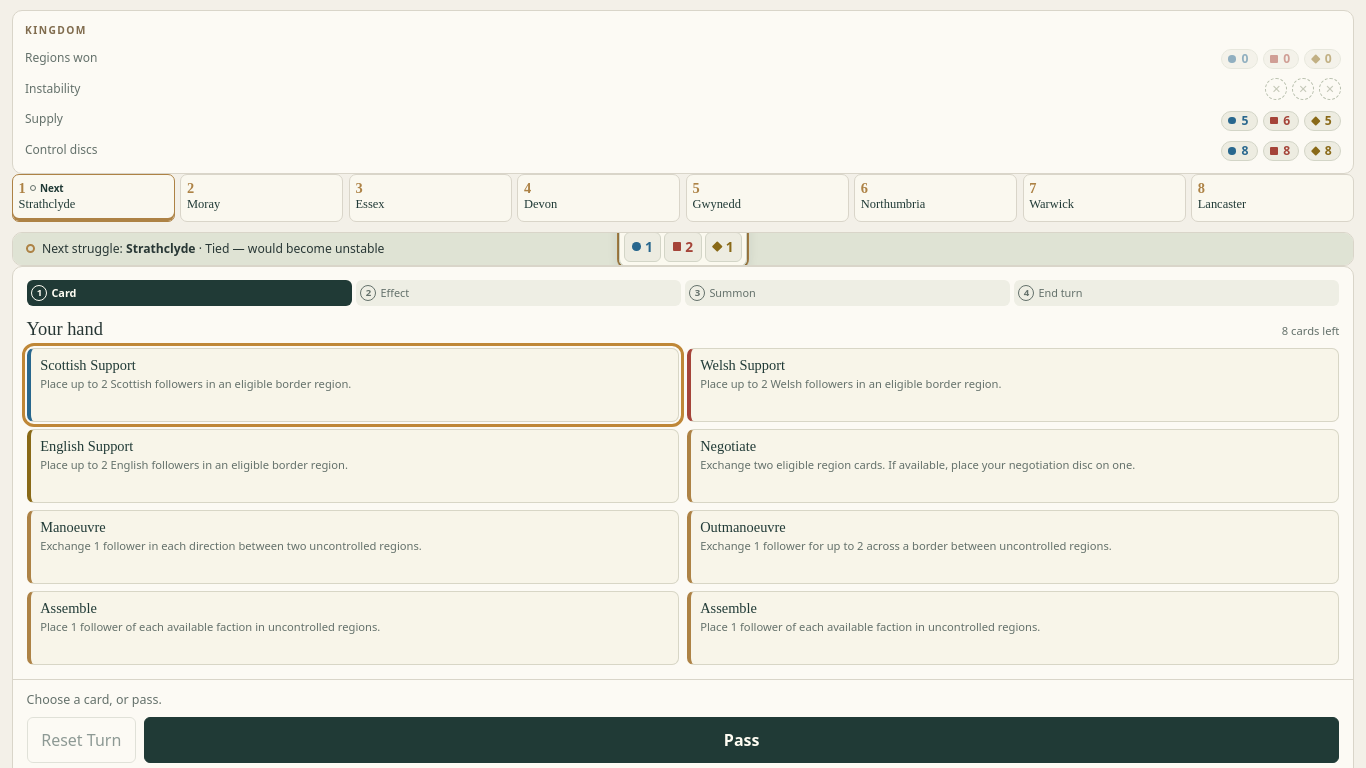
Test: keyboard focus and accessible names › keeps focus on the board after a board pick disables the used control
(page scrolled)
Step 1. Click the button named "Play Scottish Support" → (353, 385), box left=27, top=348, right=679, bottom=422
(page scrolled)
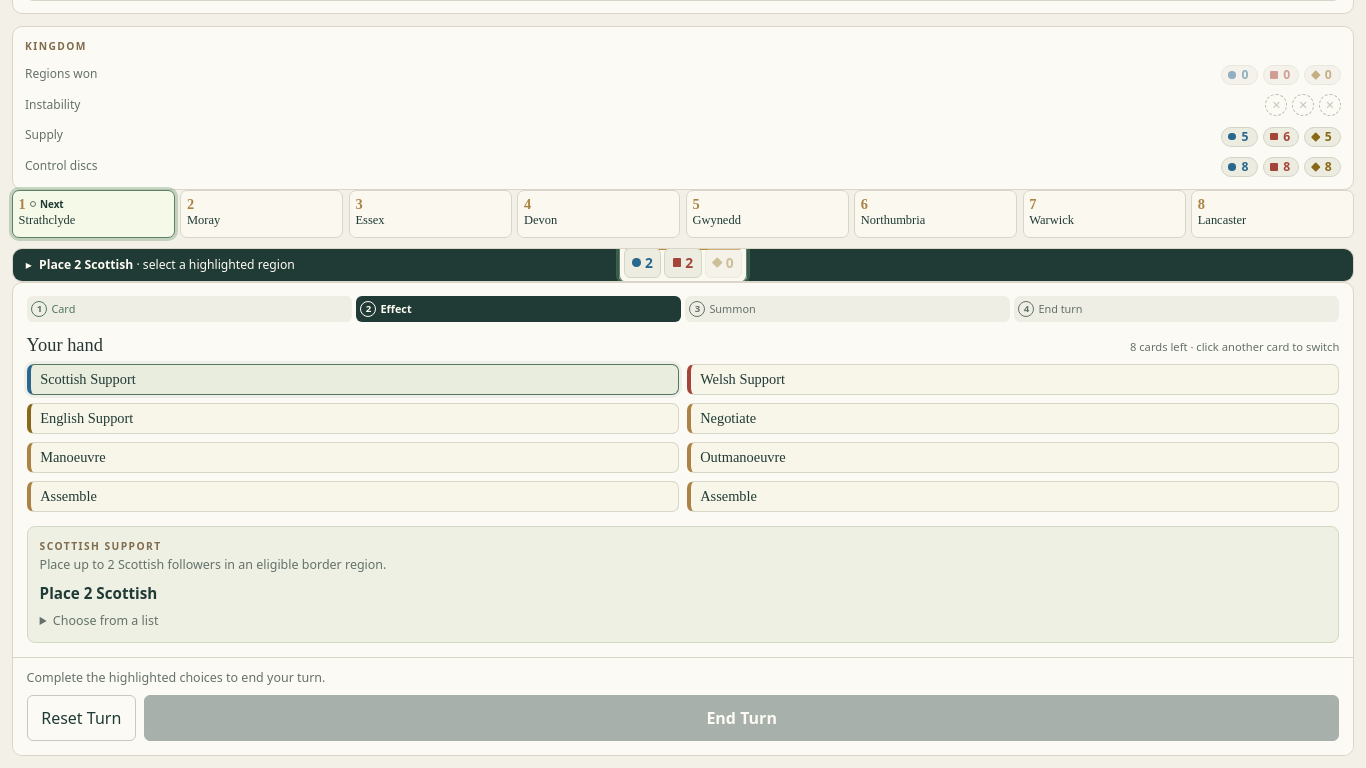
Step 2. Press Enter
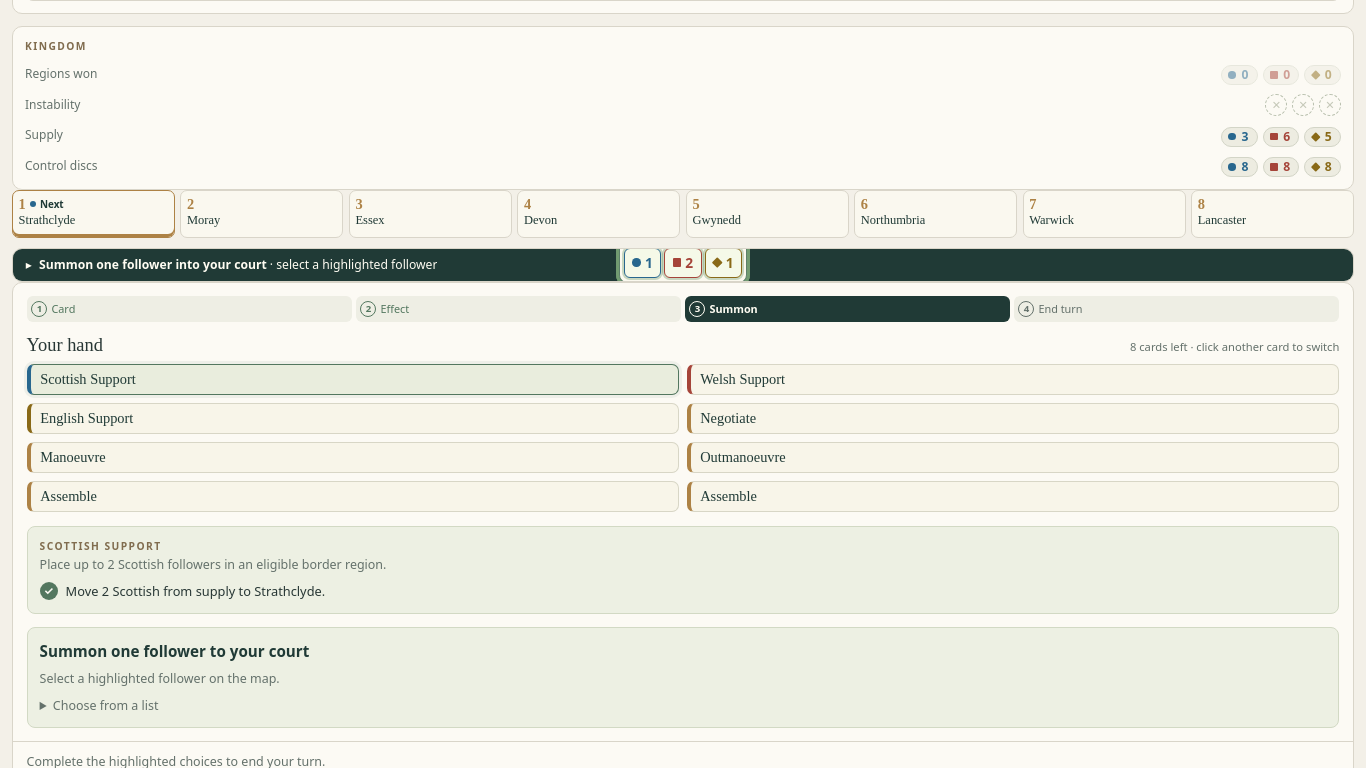
Result: the element named "Summon a follower" is shown at left=27, top=627, right=1339, bottom=728
